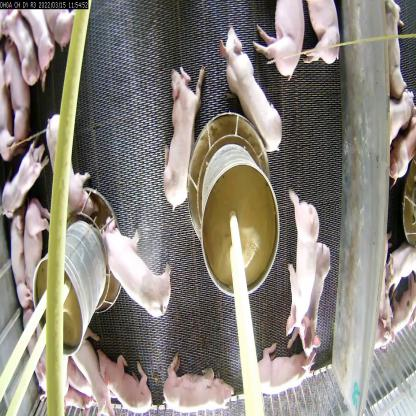Pig: (219, 30, 284, 152), (104, 219, 173, 332), (157, 64, 207, 212), (41, 109, 91, 227), (282, 192, 318, 340), (247, 339, 326, 403), (159, 352, 235, 415), (254, 0, 304, 87), (96, 343, 154, 416), (301, 232, 333, 354), (70, 323, 109, 415), (4, 145, 46, 225), (20, 202, 50, 310), (3, 219, 36, 317)
